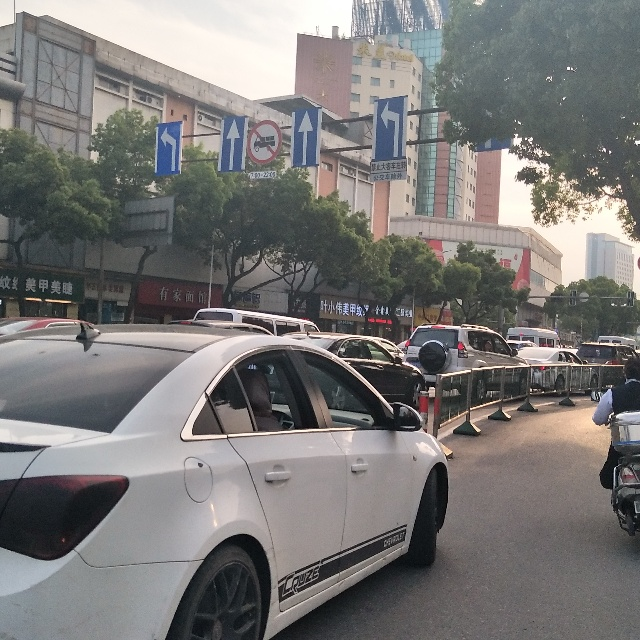left: (371, 95, 406, 160), (154, 120, 183, 175)
straight: (290, 108, 322, 169), (218, 116, 246, 171)
